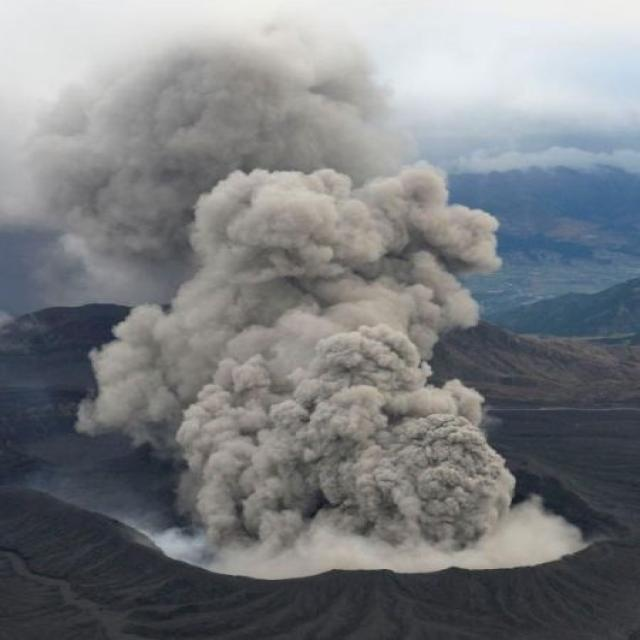Smoke: (1, 24, 589, 581)
